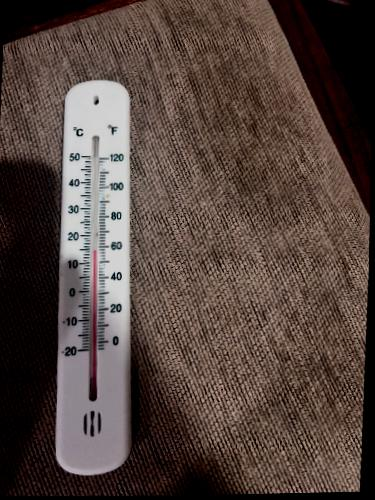thermo: (52, 77, 143, 471)
